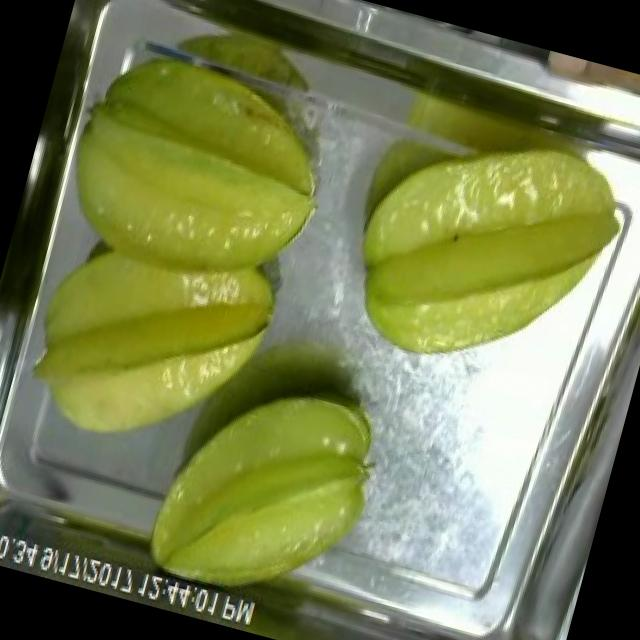fruit: (320, 89, 640, 411), (1, 172, 309, 484), (42, 21, 359, 314), (121, 346, 401, 636)
